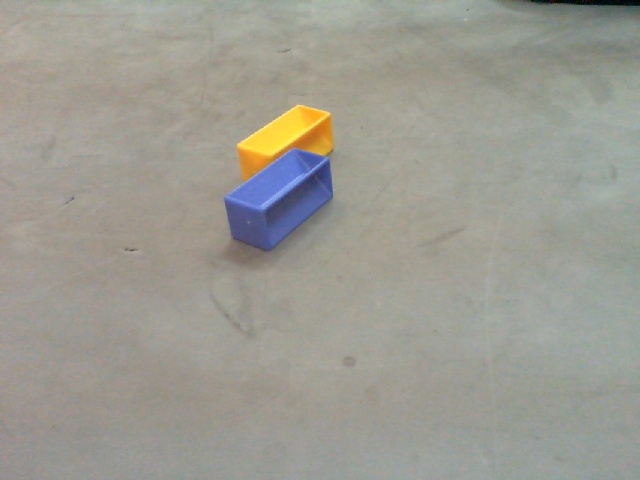BlueSample: (221, 147, 338, 253)
YellowSample: (234, 98, 334, 180)
